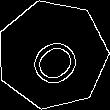O_NE: (18, 22, 87, 88)
